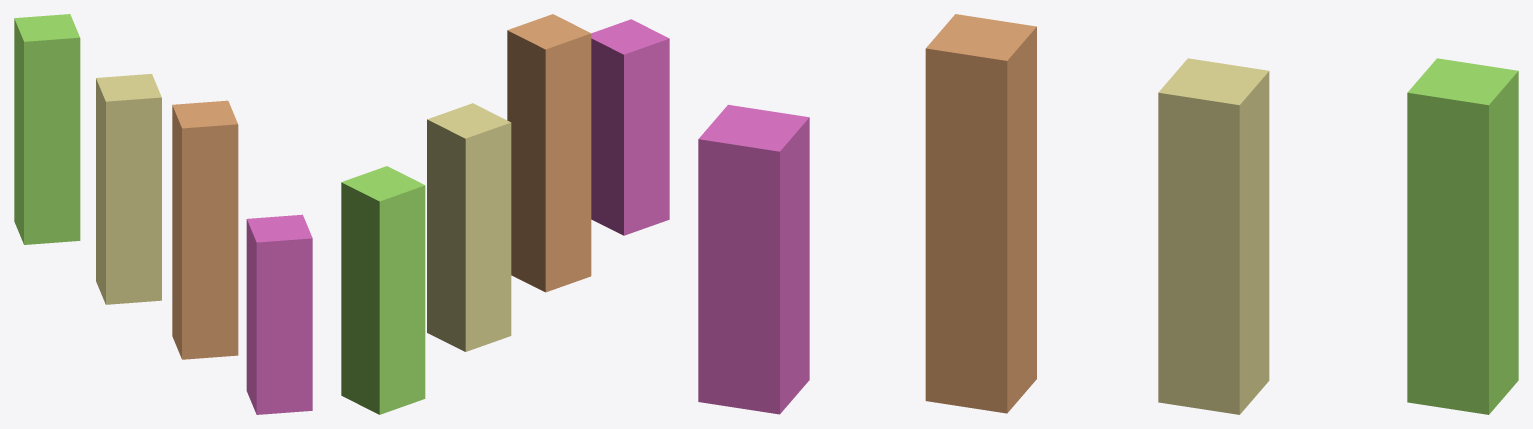
Rendered from planet.glb.
3 renders of one model, left to right at view 1: azimuth 30°, elevation 25°; view 2: azimuth 150°, elevation 25°; view 3: azimuth 270°, elevation 25°, orthographic. The views are drawn at different scales.
Visible parts, largest first — view 1: Cube, Cube.003, Cube.002, Cube.001; view 2: Cube, Cube.003, Cube.002, Cube.001; view 3: Cube, Cube.002, Cube.003, Cube.001.
Part boxes in pixels (x1,y1,x2,y2): Cube: (172,100,238,359); Cube.003: (14,14,80,244); Cube.002: (96,74,161,304); Cube.001: (246,214,312,414); Cube: (507,14,591,292); Cube.003: (341,166,425,414); Cube.002: (427,103,511,351); Cube.001: (591,19,669,235); Cube: (925,14,1036,413); Cube.002: (1158,58,1269,414); Cube.003: (1407,58,1518,414); Cube.001: (698,104,809,414).
Bounding box in the file's own units: 2.56 × 9.01 × 18.91.
